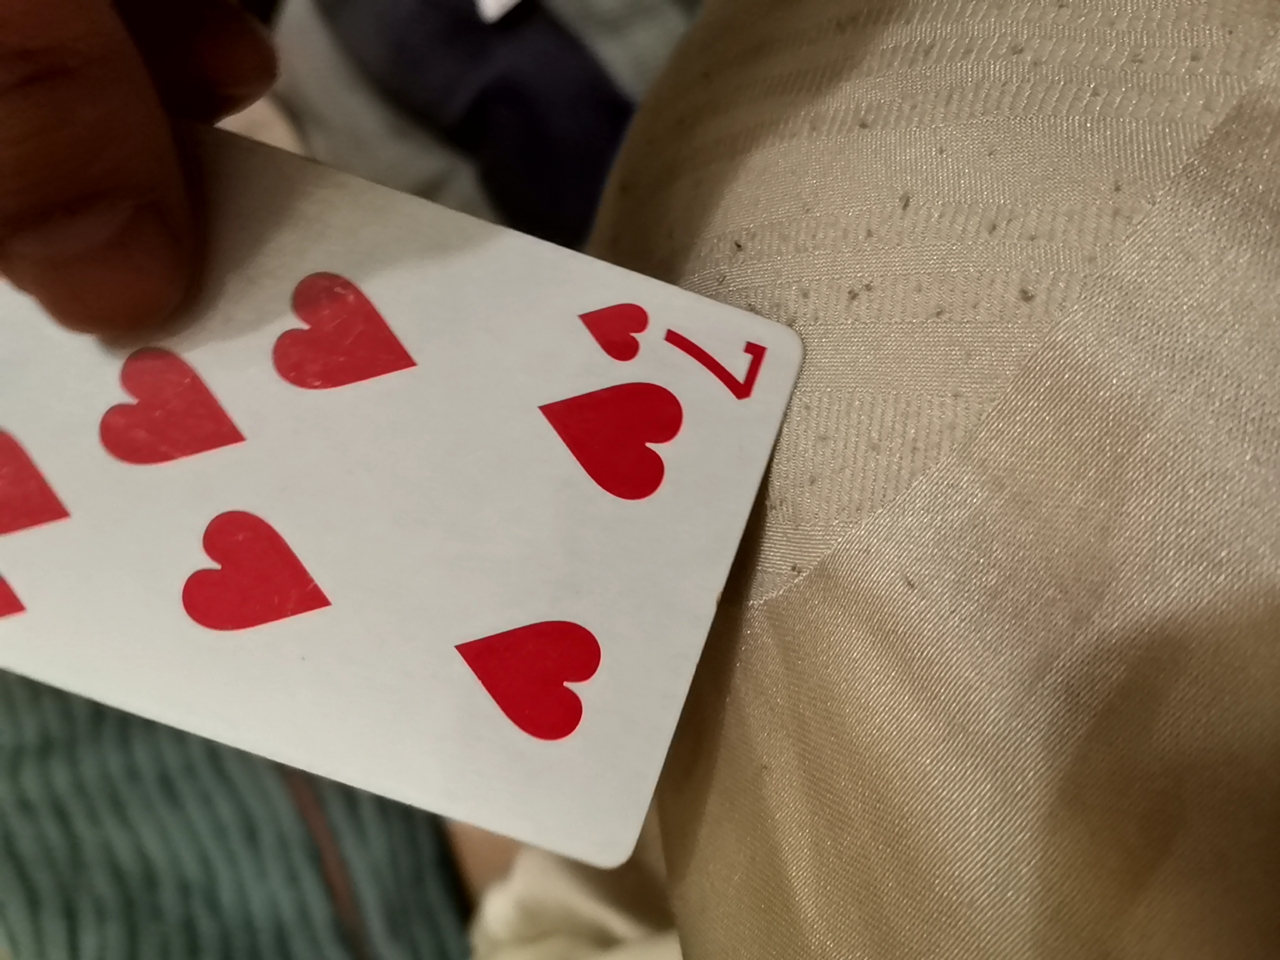hx 7: (2, 177, 844, 881)
